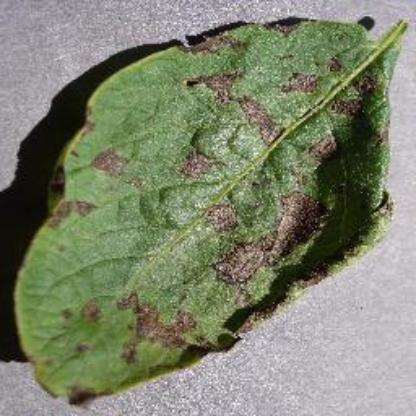Early-Blight: (12, 14, 414, 406)
